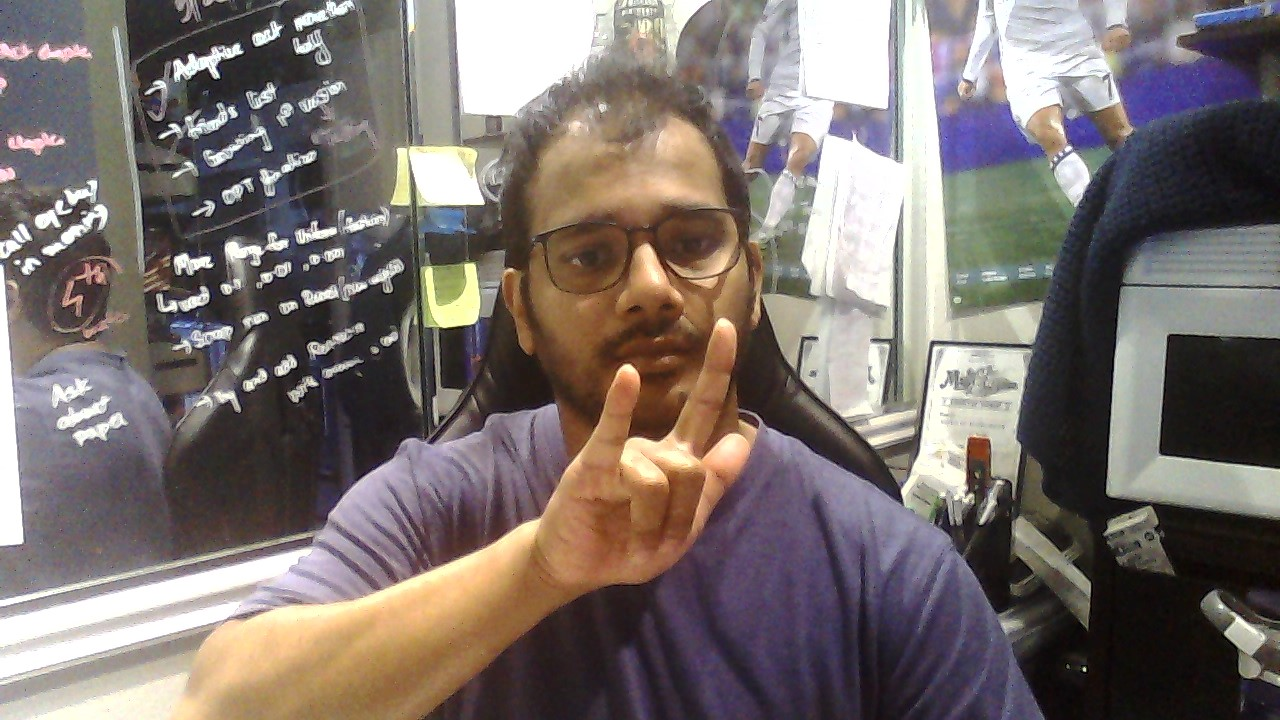ILoveYou: (540, 318, 752, 584)
